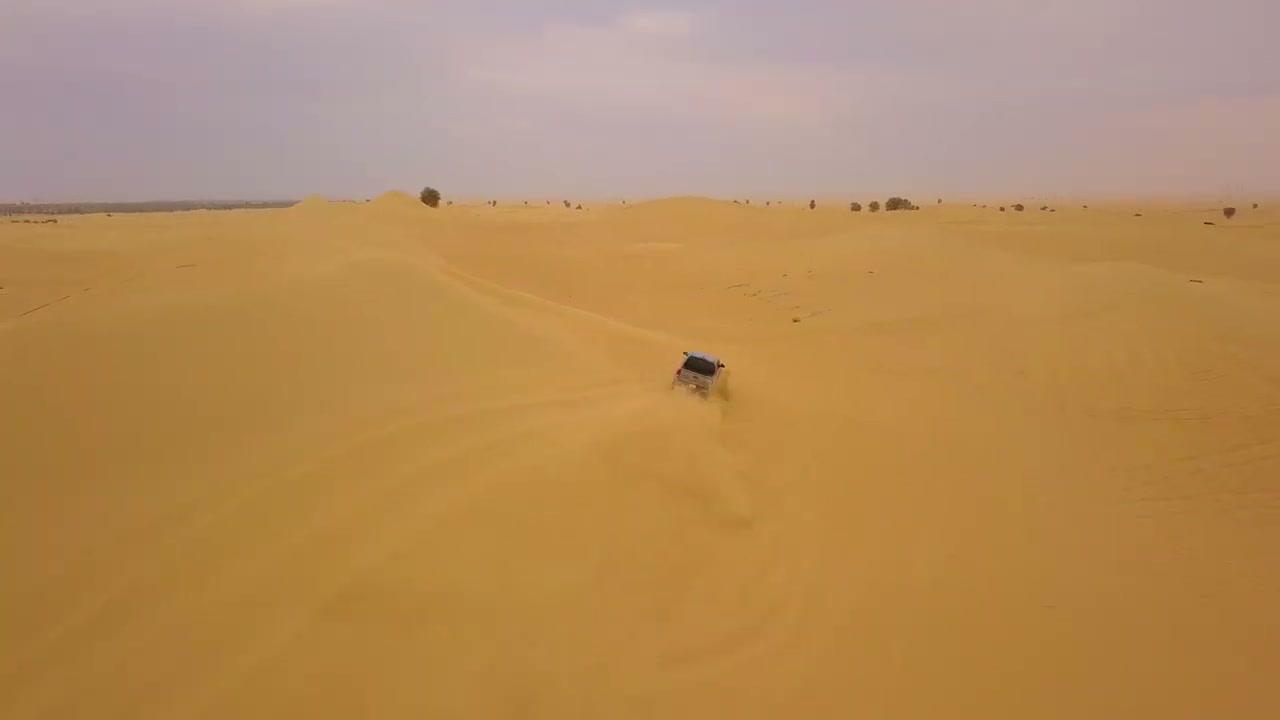vehicle_track: (38, 372, 620, 719)
